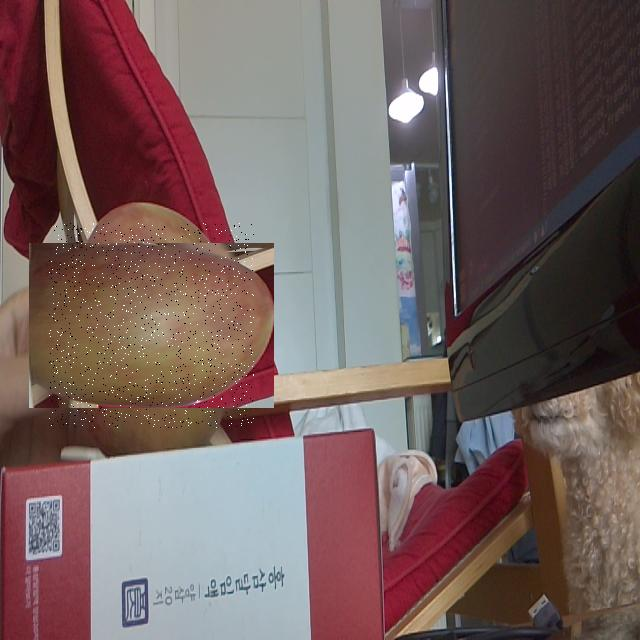apple: (49, 223, 254, 428)
